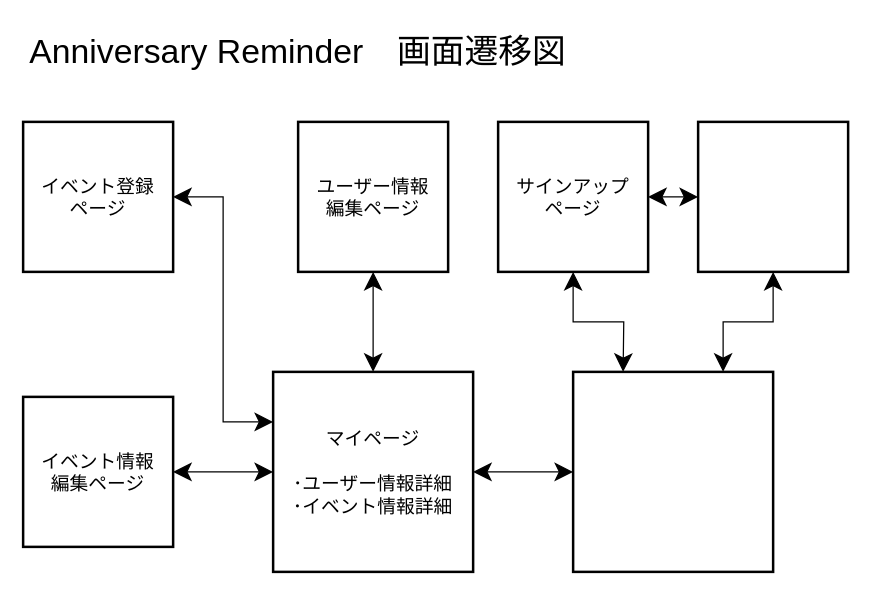
This 870x594 diagram has some shape labels left out. The box of each missing label's shape, as (x1, y1, x2, y2) in pixels:
サインイン ページ: (696, 120, 849, 272)
トップページ: (571, 370, 774, 572)
